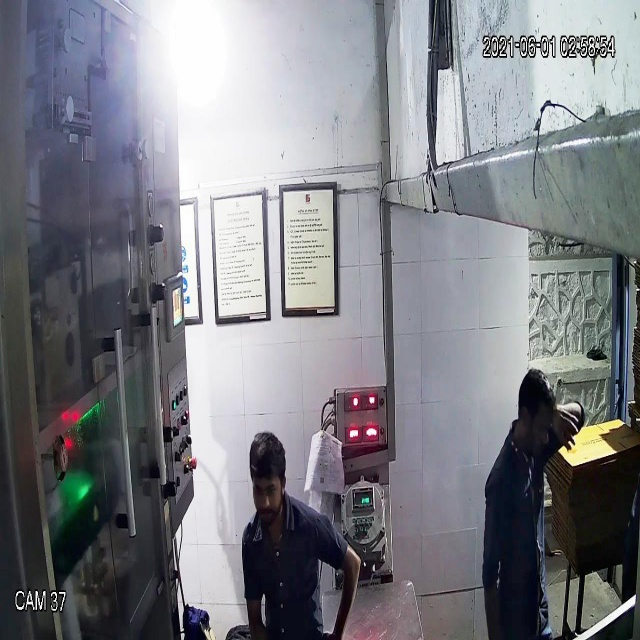Sin_gafas: (246, 472, 288, 504)
